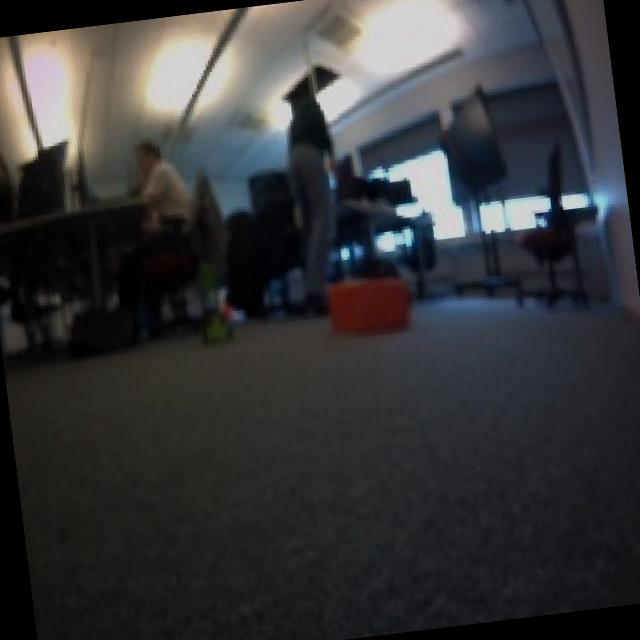robot: (195, 306, 234, 346)
target: (320, 266, 413, 339)
